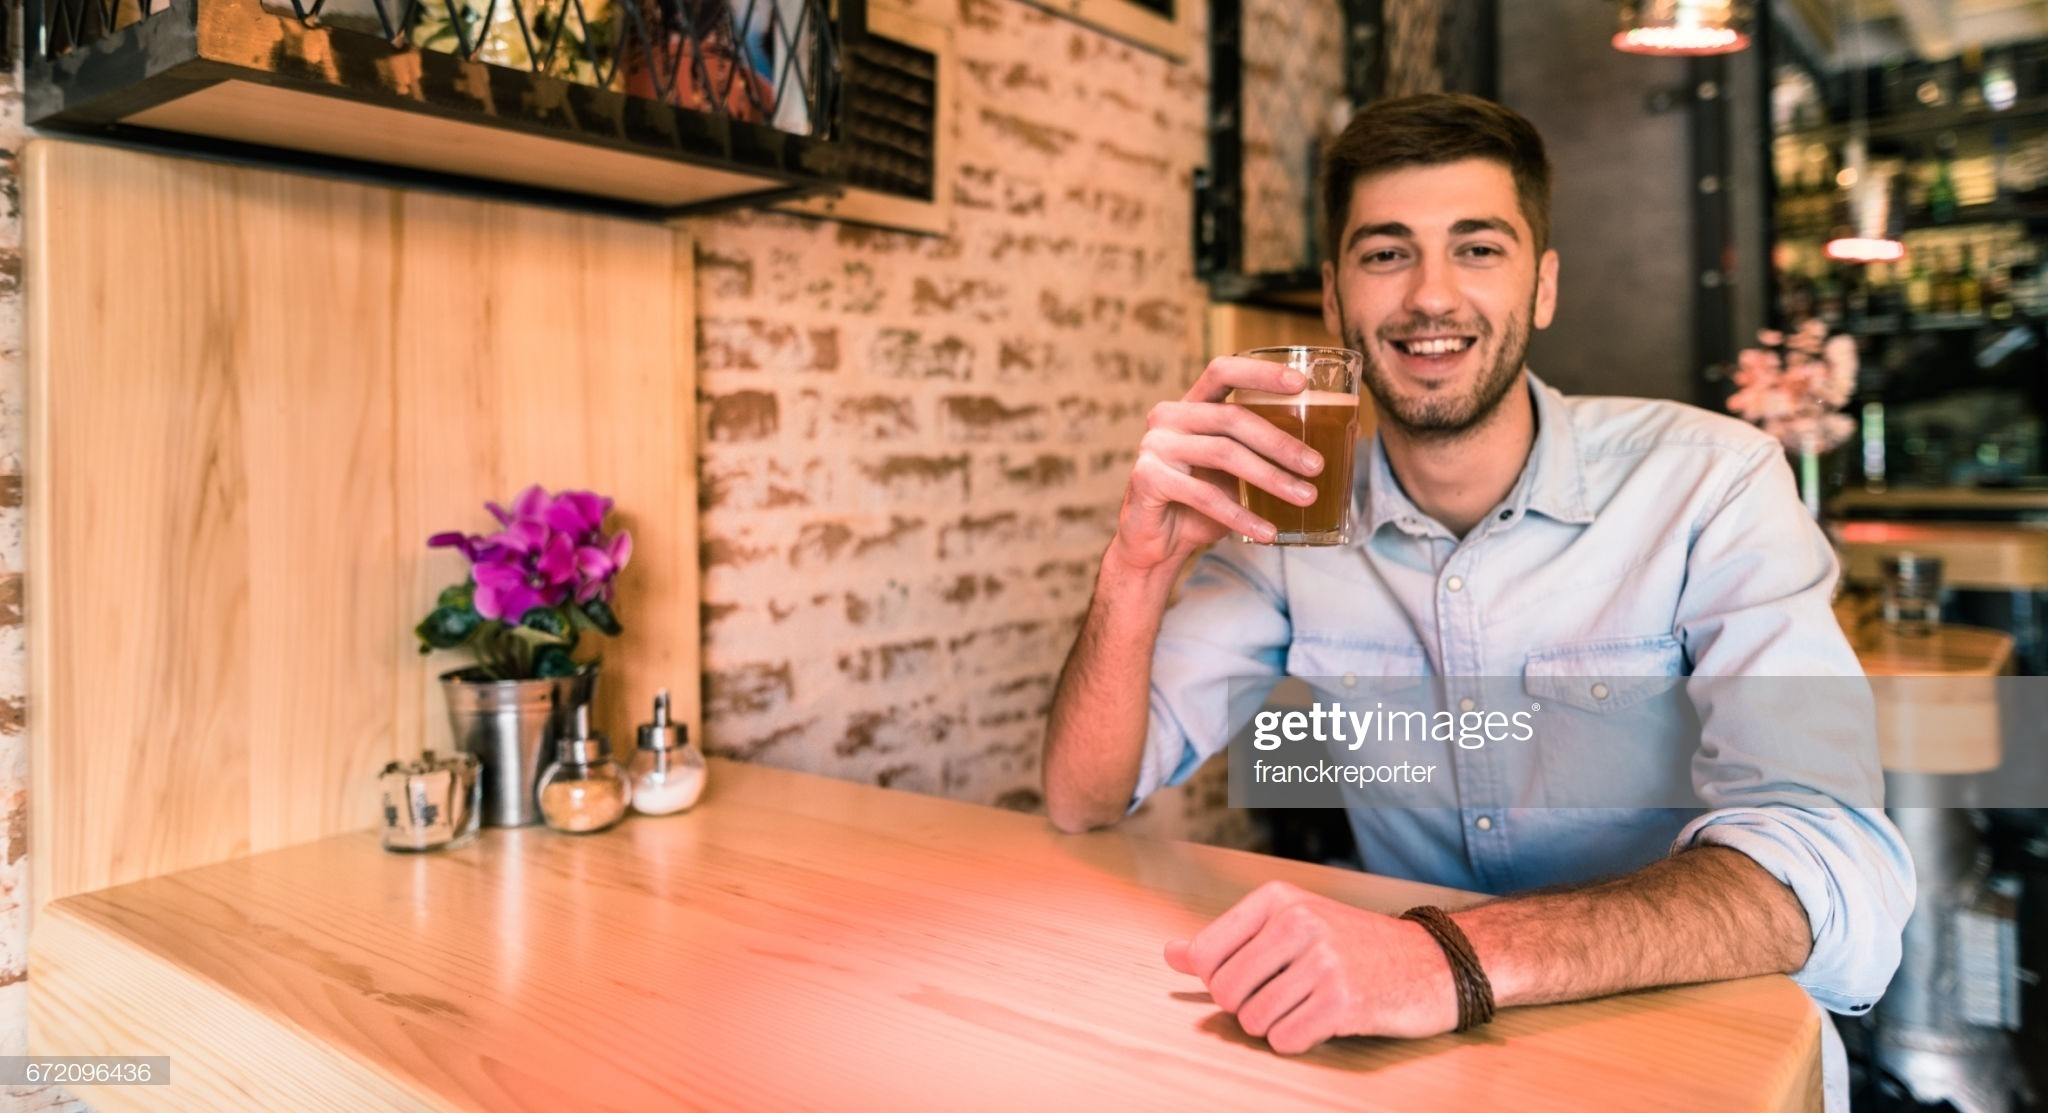whiskey: (1227, 347, 1369, 565)
